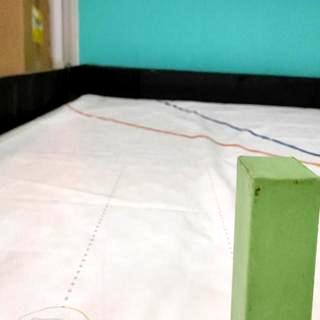greenbox: (230, 153, 320, 320)
